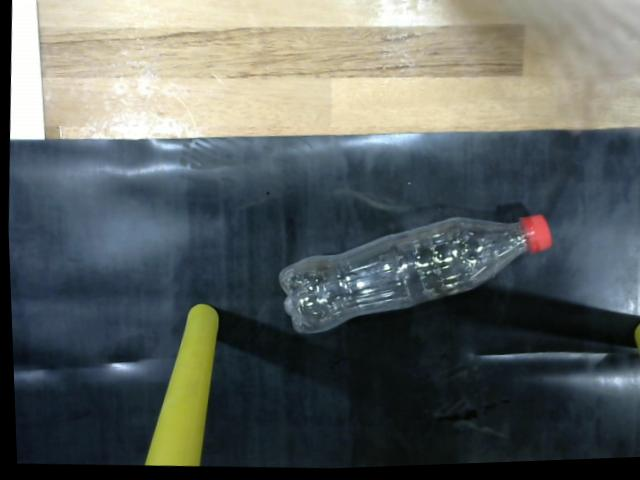bottle: (269, 211, 561, 351)
